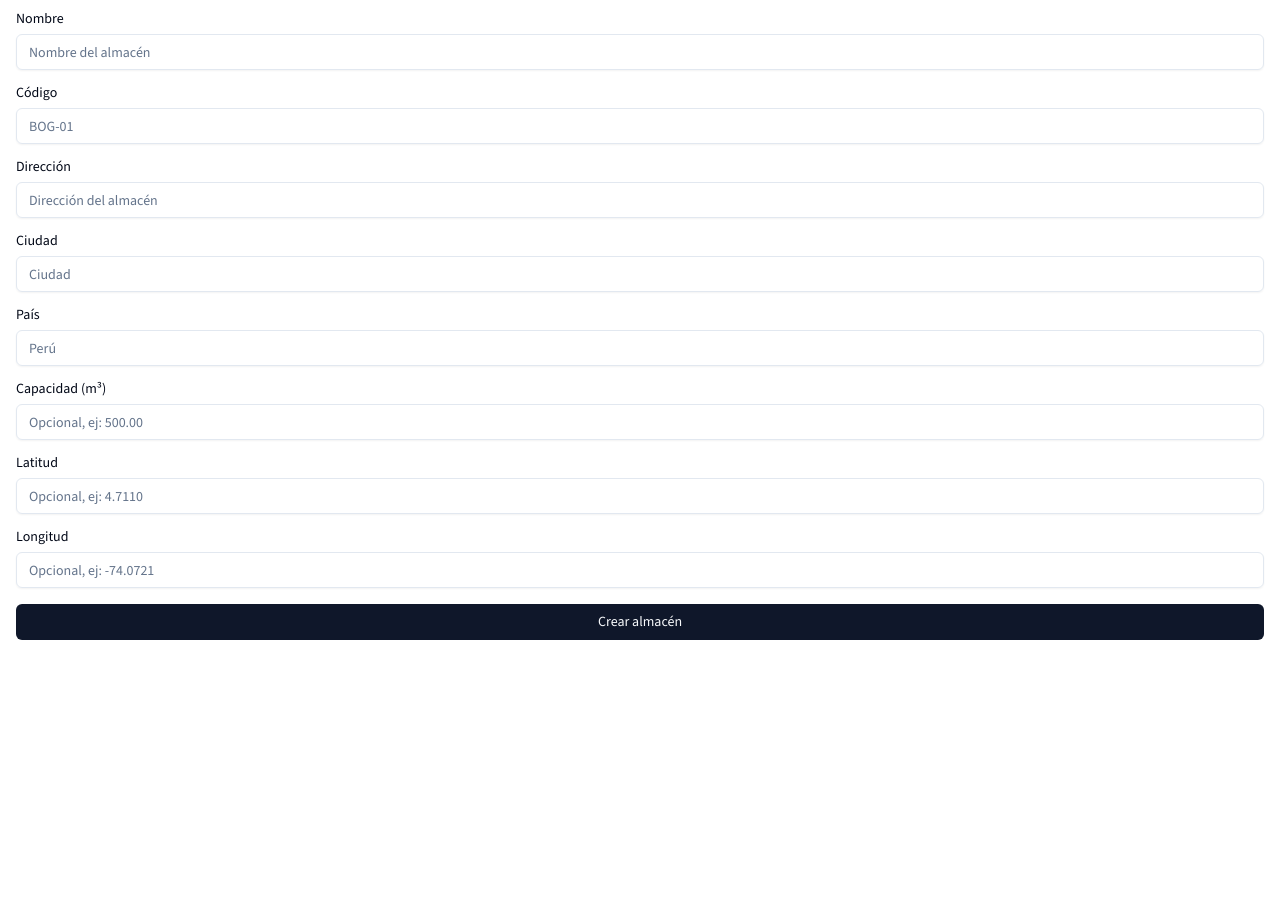
it: WarehouseForm — validation › shows error when code is empty on submit
Type "Test Warehouse" into the field with placeholder "Nombre del almacén". click: (640, 52)
box: top-left (16, 34), bottom-right (1264, 70)
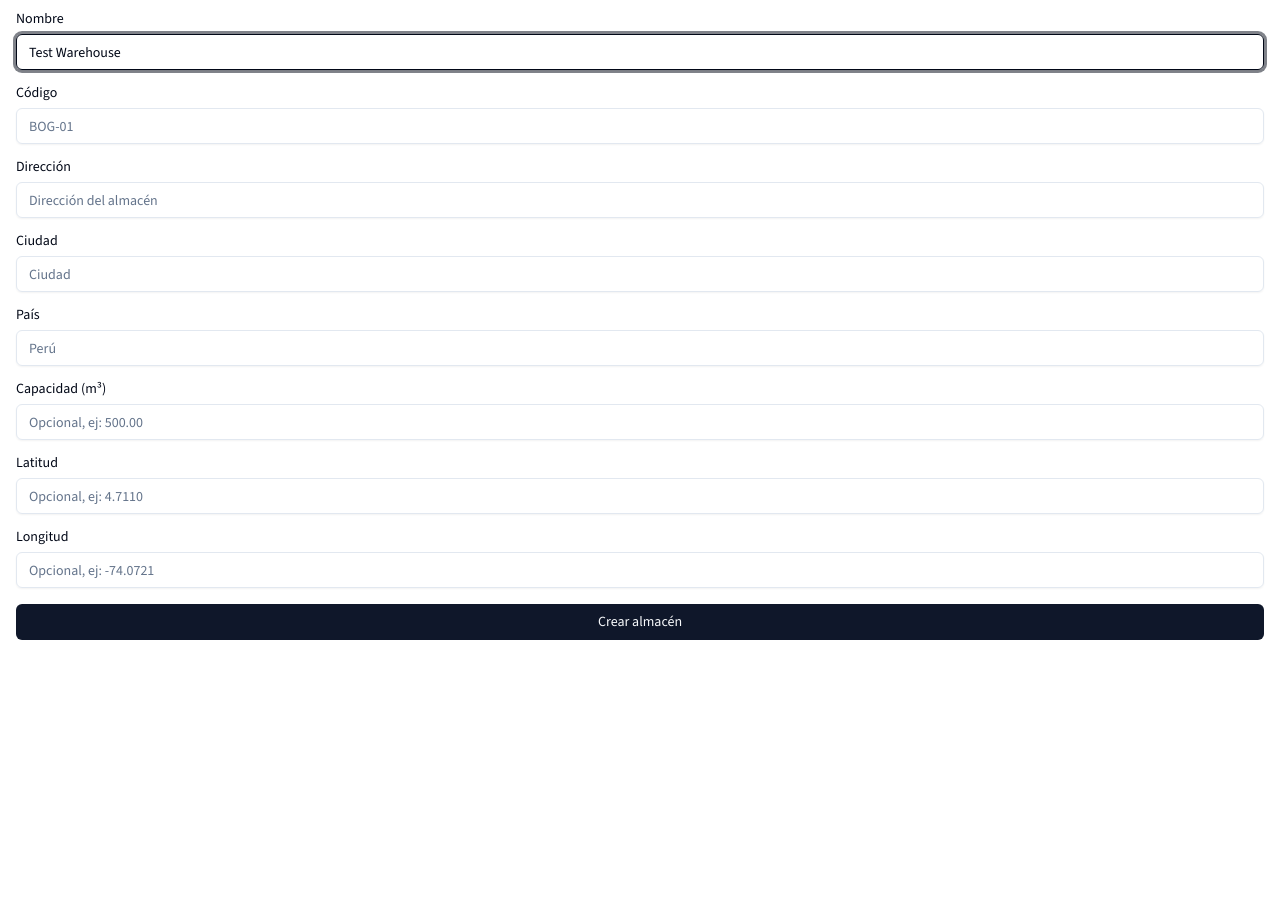
Click the button "Crear almacén". click: (640, 622)
box: top-left (16, 604), bottom-right (1264, 640)
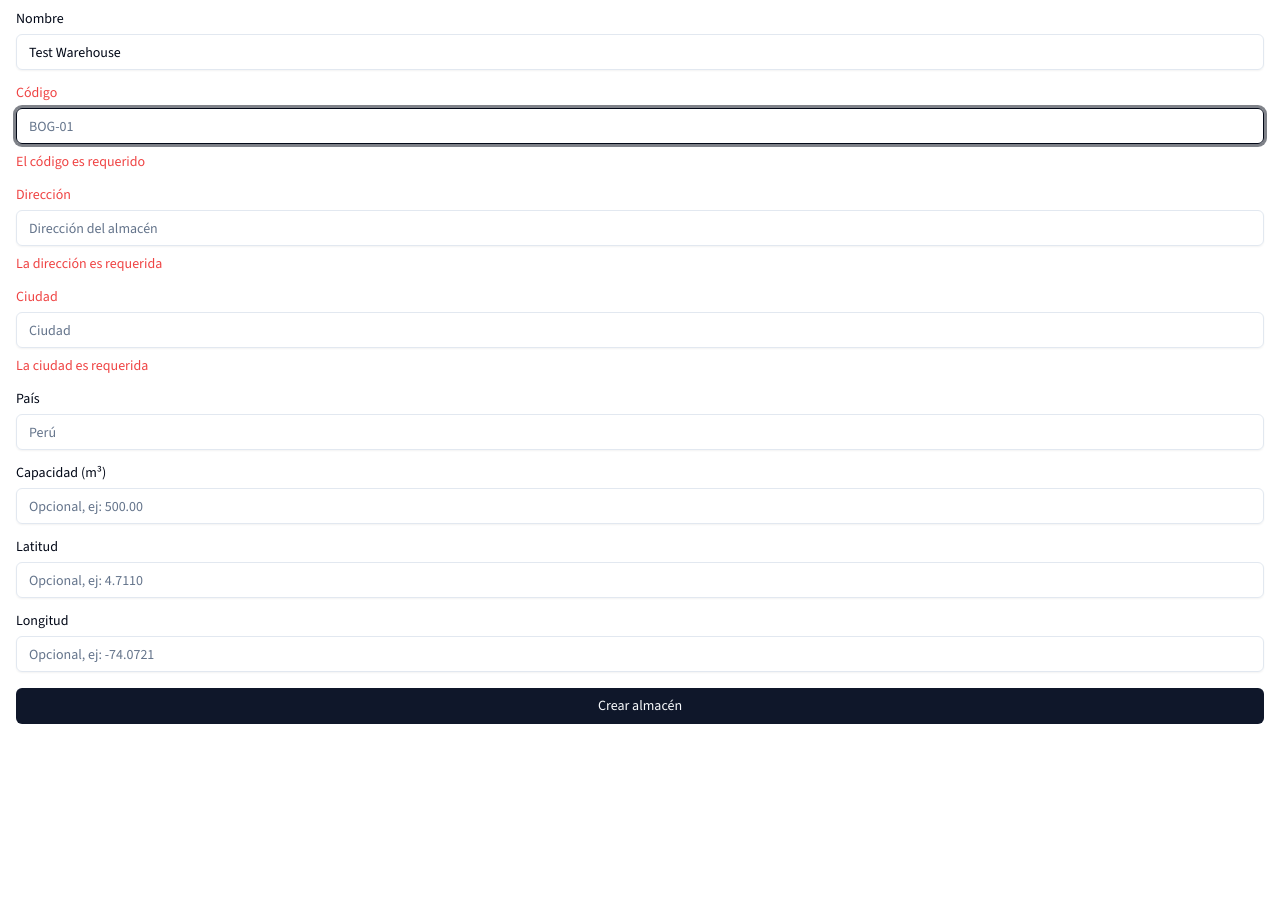
Result: the text "El código es requerido" is shown at top-left (16, 152), bottom-right (145, 171)
